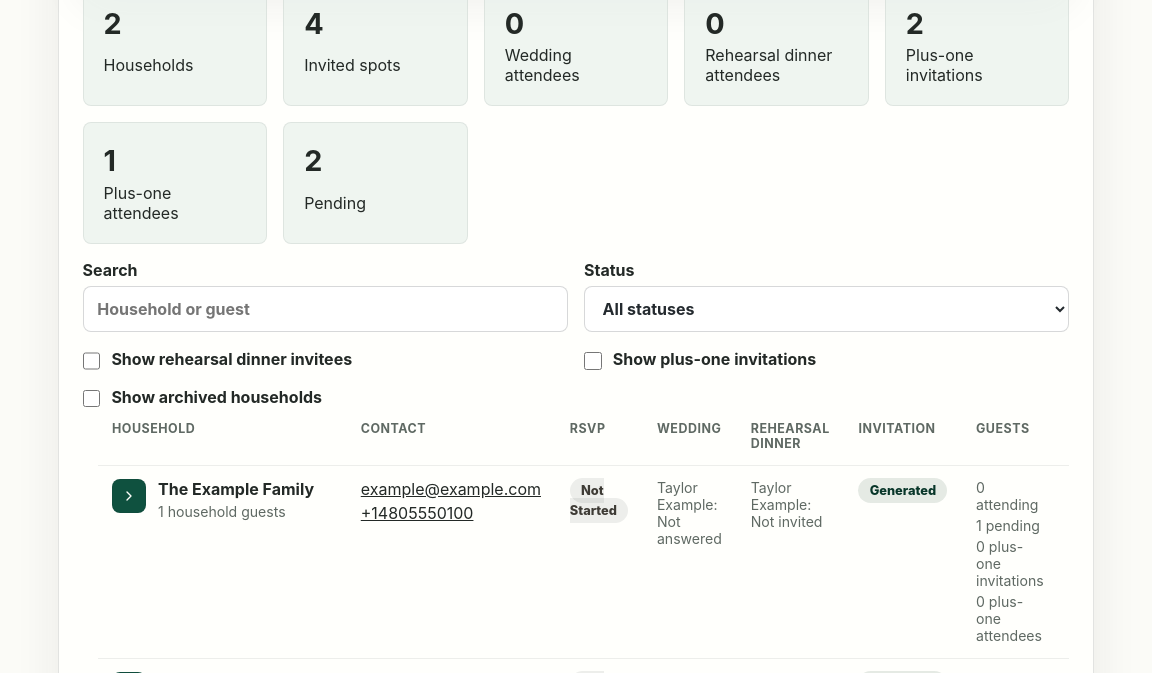
Test case: AdminPage admin notifications › shows and filters plus-one invitations separately from attendees
(page scrolled)
Check: the text "Plus-one attendees" reads "1 Plus-one attendees", box [83,122,267,244]
Click the checkbox labelled "Show plus-one invitations" at (593, 361), box [584,352,602,370]
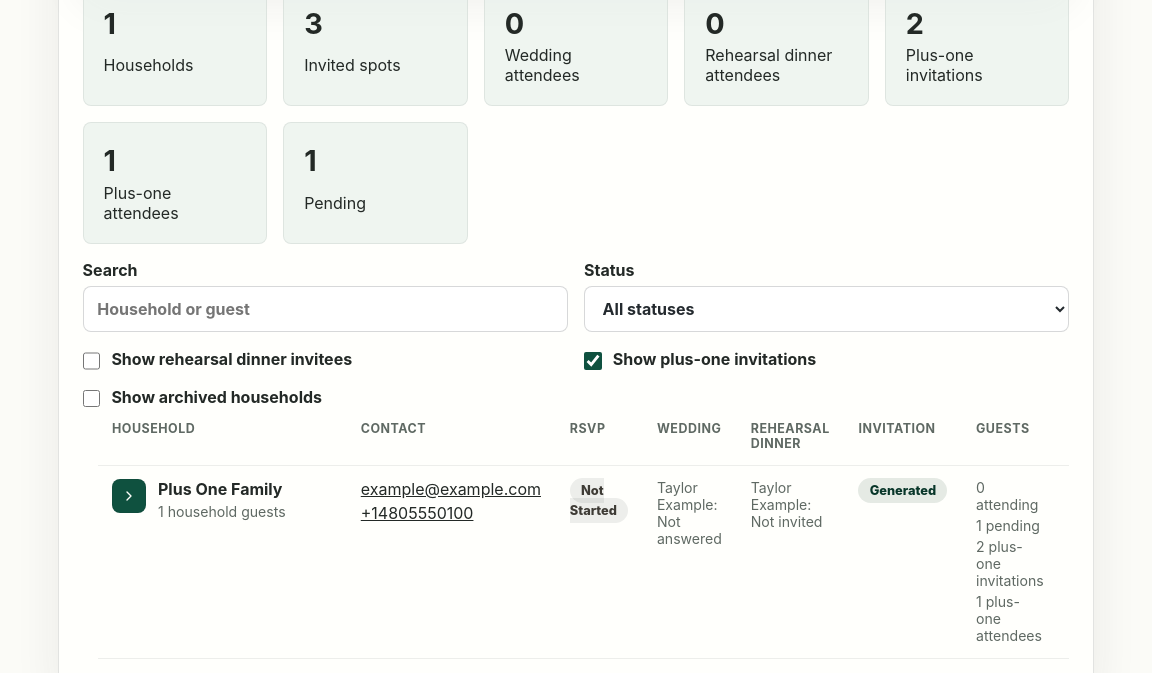
Check: the text "The Example Family" is gone
Check: the text "Plus One Family" is shown 2 times
